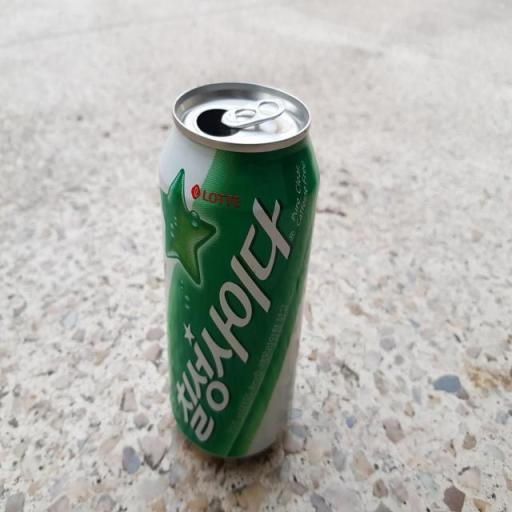metal: (145, 56, 329, 494)
